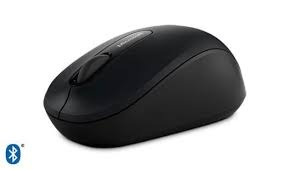mouse: (38, 20, 253, 154)
